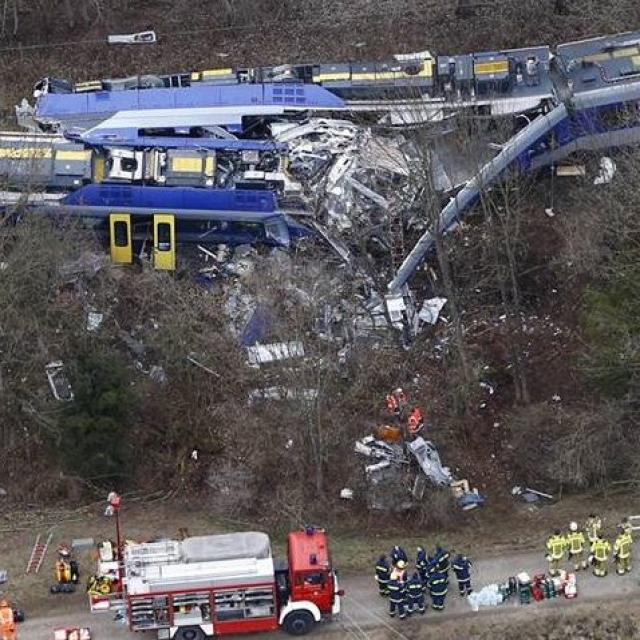traffic_incident: (12, 60, 603, 364)
